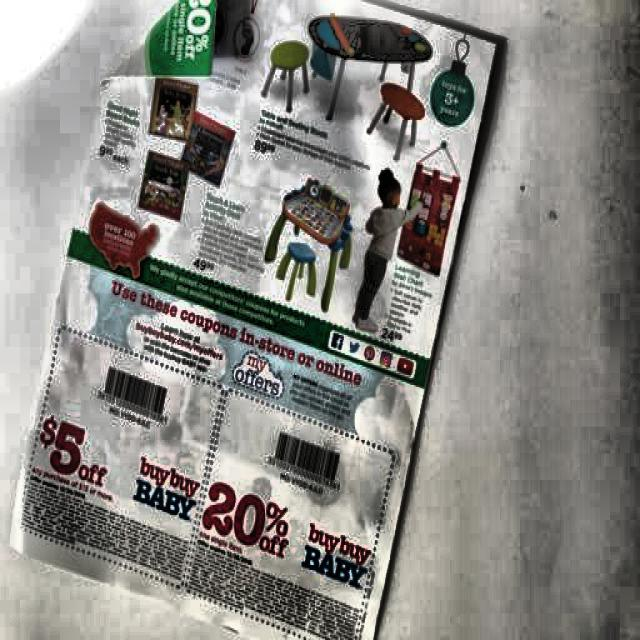paper: (67, 13, 457, 630)
